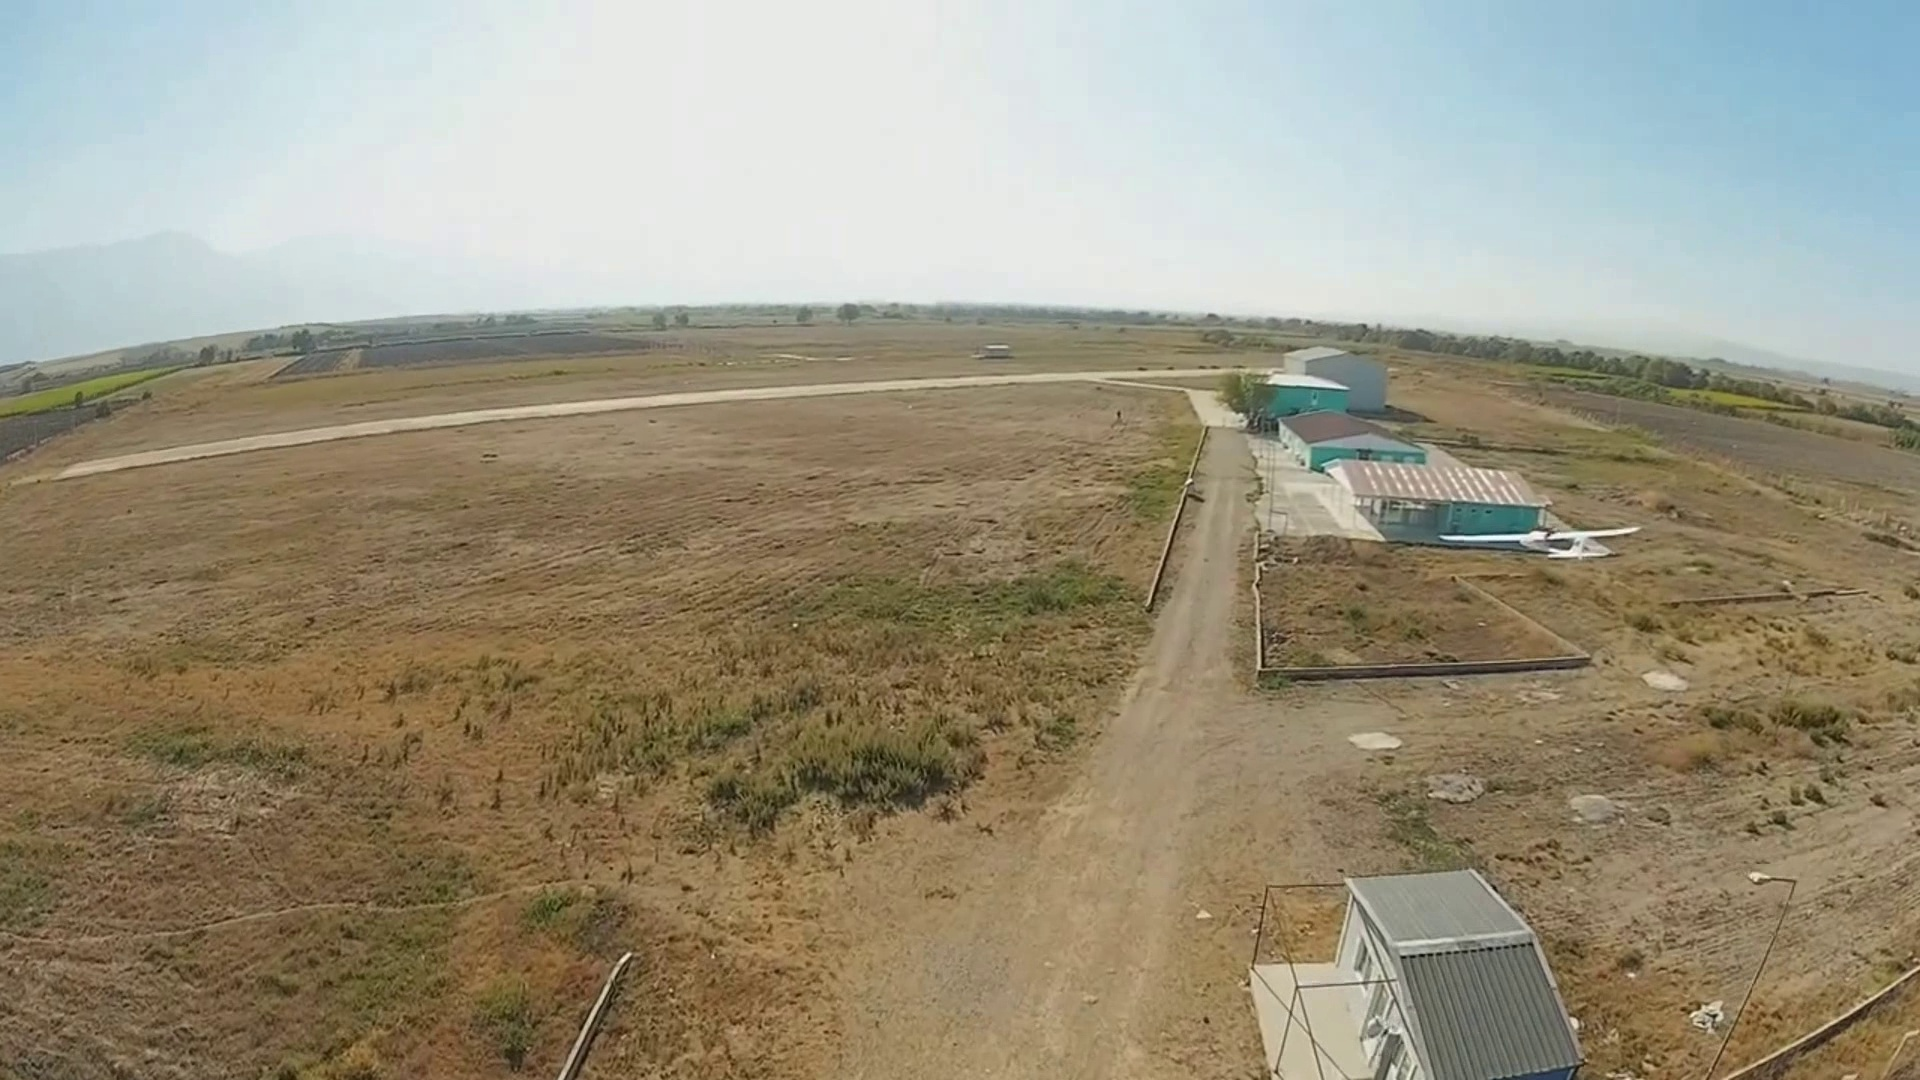airplane: (1295, 433, 1633, 560)
